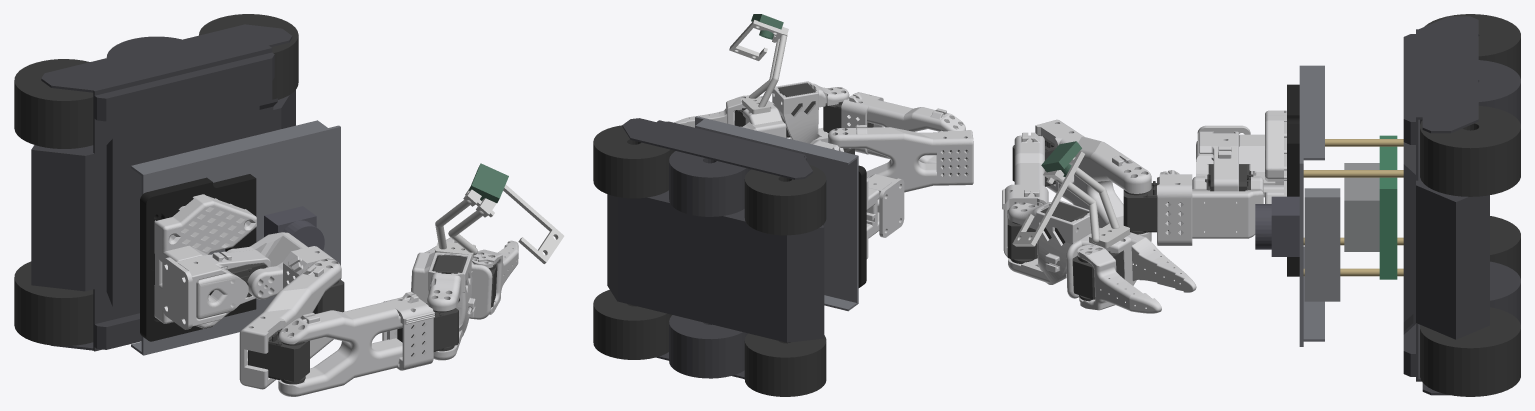
Rendered from so101_rover_assembly.glb.
The picture shows the model from 3 angles, left to right: view 1: azimuth 30°, elevation 25°; view 2: azimuth 150°, elevation 25°; view 3: azimuth 270°, elevation 25°; orthographic projection. The views are drawn at different scales.
Parts seen in each view (by area): view 1: base_link_jetson_kit.stl, base_link, base_so101_v2.stl, under_arm_so101_v1.stl, arm_mount_plate_link, left_down_wheel_link.stl, upper_arm_so101_v1.stl, right_down_wheel_link.stl, wrist_cam_bracket_link, wrist_roll_pitch_so101_v2.stl, left_up_wheel_link.stl, motor_holder_so101_wrist_v1.stl (+12 smaller); view 2: base_link_jetson_kit.stl, base_link, upper_arm_so101_v1.stl, left_down_wheel_link.stl, right_down_wheel_link.stl, left_up_wheel_link.stl, right_up_wheel_link.stl, wrist_roll_pitch_so101_v2.stl, under_arm_so101_v1.stl, wrist_cam_bracket_link, waveshare_mounting_plate_so101_v2.stl, arm_mount_plate_link (+7 smaller); view 3: base_link_jetson_kit.stl, base_link, left_up_wheel_link.stl, right_up_wheel_link.stl, upper_arm_so101_v1.stl, 3d_camera_link.stl, rotation_pitch_so101_v1.stl, wrist_roll_pitch_so101_v2.stl, base_so101_v2.stl, wrist_roll_follower_so101_v1.stl, wrist_cam_bracket_link, moving_jaw_so101_v1.stl (+14 smaller).
Part boxes in pixels (<box>): base_link_jetson_kit.stl: <box>31,24,295,351</box>; base_link: <box>131,120,340,355</box>; base_so101_v2.stl: <box>154,194,256,328</box>; under_arm_so101_v1.stl: <box>278,301,402,396</box>; arm_mount_plate_link: <box>140,174,256,341</box>; left_down_wheel_link.stl: <box>14,59,93,148</box>; upper_arm_so101_v1.stl: <box>239,259,341,389</box>; right_down_wheel_link.stl: <box>14,261,93,345</box>; wrist_cam_bracket_link: <box>435,184,564,263</box>; wrist_roll_pitch_so101_v2.stl: <box>427,252,475,360</box>; left_up_wheel_link.stl: <box>199,14,298,99</box>; motor_holder_so101_wrist_v1.stl: <box>382,291,434,370</box>; base_link_jetson_kit.stl: <box>607,118,824,378</box>; base_link: <box>695,116,858,311</box>; upper_arm_so101_v1.stl: <box>828,125,973,192</box>; left_down_wheel_link.stl: <box>744,164,826,235</box>; right_down_wheel_link.stl: <box>744,333,826,396</box>; left_up_wheel_link.stl: <box>593,125,674,198</box>; right_up_wheel_link.stl: <box>593,289,671,359</box>; wrist_roll_pitch_so101_v2.stl: <box>771,81,849,143</box>; under_arm_so101_v1.stl: <box>848,100,965,163</box>; wrist_cam_bracket_link: <box>729,20,788,114</box>; waveshare_mounting_plate_so101_v2.stl: <box>879,178,904,237</box>; arm_mount_plate_link: <box>858,165,866,287</box>; base_link_jetson_kit.stl: <box>1403,16,1520,395</box>; base_link: <box>1299,65,1403,346</box>; left_up_wheel_link.stl: <box>1420,105,1520,196</box>; right_up_wheel_link.stl: <box>1420,307,1520,396</box>; upper_arm_so101_v1.stl: <box>1035,119,1151,241</box>; 3d_camera_link.stl: <box>1304,188,1340,301</box>; rotation_pitch_so101_v1.stl: <box>1166,176,1263,238</box>; wrist_roll_pitch_so101_v2.stl: <box>1008,200,1091,284</box>; base_so101_v2.stl: <box>1196,110,1286,203</box>; wrist_roll_follower_so101_v1.stl: <box>1066,228,1196,298</box>; wrist_cam_bracket_link: <box>1012,151,1130,247</box>; moving_jaw_so101_v1.stl: <box>1077,245,1161,313</box>.
Bounding box in the file's own units: 0.3173 × 0.2304 × 0.4101.
